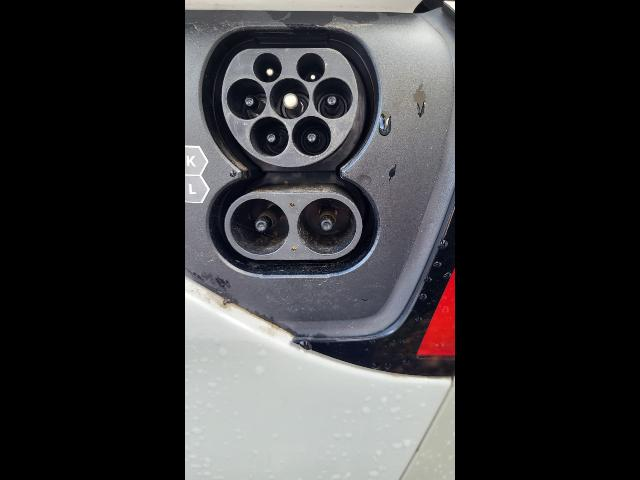inlet: (222, 48, 358, 167)
inlet-above-left: (253, 52, 282, 82)
inlet-above-right: (296, 52, 325, 82)
inlet-below-left: (249, 117, 289, 157)
inlet-below-right: (292, 116, 332, 156)
inlet-circle: (269, 77, 310, 120)
inlet-circle-left: (226, 77, 267, 120)
inlet-circle-right: (312, 77, 353, 119)
inlet-minus: (298, 197, 356, 255)
inlet-plus: (230, 198, 289, 255)
